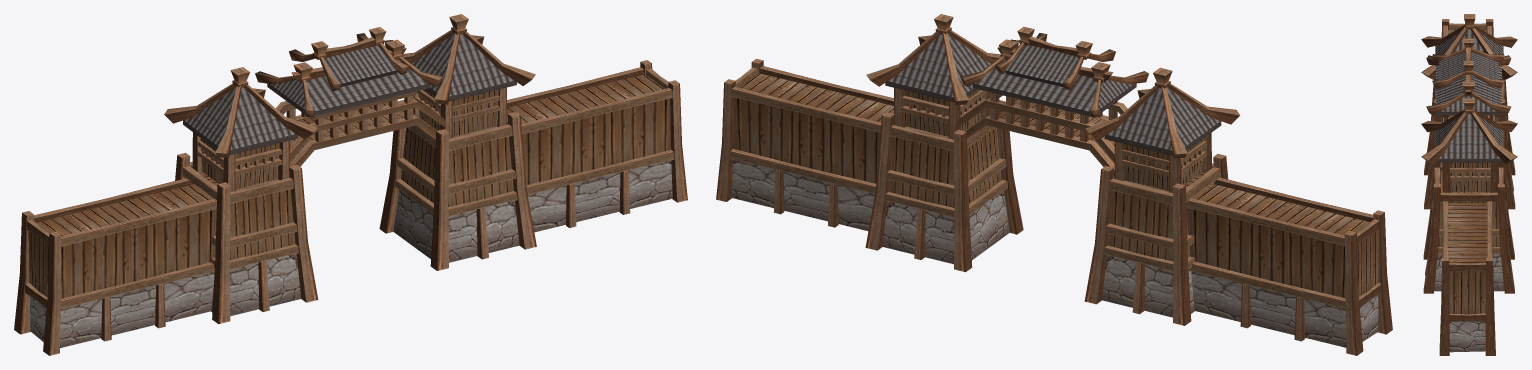
The model's file is FH_Env_Guanqia_03.FBX.
The picture shows the model from 3 angles, left to right: view 1: azimuth 30°, elevation 25°; view 2: azimuth 150°, elevation 25°; view 3: azimuth 270°, elevation 25°; orthographic projection. The views are drawn at different scales.
Parts seen in each view (by area): view 1: 03, Object03, Object04; view 2: 03, Object03, Object04; view 3: 03, Object04, Object03.
Boxes of the visible parts, x1,y1,x2,y2 form: 03: [164, 14, 536, 324]; Object03: [14, 178, 216, 355]; Object04: [507, 60, 687, 232]; 03: [865, 14, 1240, 325]; Object03: [1186, 177, 1392, 355]; Object04: [716, 58, 893, 230]; 03: [1421, 14, 1517, 293]; Object04: [1439, 201, 1495, 355]; Object03: [1441, 19, 1493, 37].
Size of the model in its own units: 42.05 by 14.32 by 6.97.
